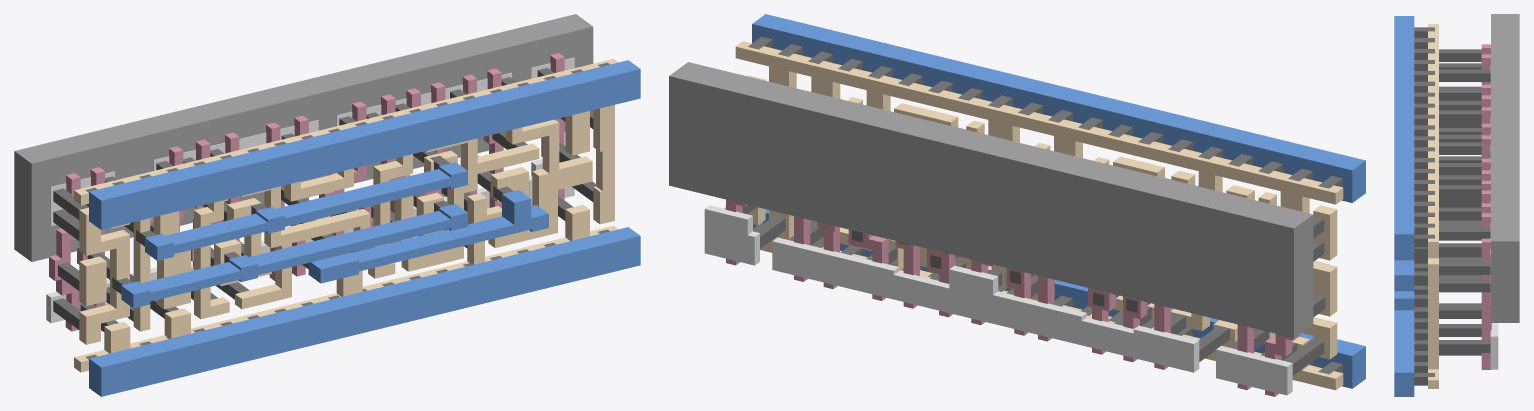
Rendered from sky130_fd_sc_hd__dfrtp_1.gds.gltf.
The picture shows the model from 3 angles, left to right: view 1: azimuth 30°, elevation 25°; view 2: azimuth 150°, elevation 25°; view 3: azimuth 270°, elevation 25°; orthographic projection. The views are drawn at different scales.
Parts seen in each view (by area): view 1: sky130_fd_sc_hd__dfrtp_1_met1, sky130_fd_sc_hd__dfrtp_1_li1, sky130_fd_sc_hd__dfrtp_1_nwell, sky130_fd_sc_hd__dfrtp_1_poly, sky130_fd_sc_hd__dfrtp_1_licon, sky130_fd_sc_hd__dfrtp_1_diff, sky130_fd_sc_hd__dfrtp_1_mcon; view 2: sky130_fd_sc_hd__dfrtp_1_nwell, sky130_fd_sc_hd__dfrtp_1_li1, sky130_fd_sc_hd__dfrtp_1_met1, sky130_fd_sc_hd__dfrtp_1_diff, sky130_fd_sc_hd__dfrtp_1_poly, sky130_fd_sc_hd__dfrtp_1_mcon, sky130_fd_sc_hd__dfrtp_1_licon; view 3: sky130_fd_sc_hd__dfrtp_1_licon, sky130_fd_sc_hd__dfrtp_1_nwell, sky130_fd_sc_hd__dfrtp_1_met1, sky130_fd_sc_hd__dfrtp_1_mcon, sky130_fd_sc_hd__dfrtp_1_li1, sky130_fd_sc_hd__dfrtp_1_poly, sky130_fd_sc_hd__dfrtp_1_diff.
Boxes of the visible parts, left/top/right/bottom form: sky130_fd_sc_hd__dfrtp_1_met1: left=89, top=60, right=640, bottom=396; sky130_fd_sc_hd__dfrtp_1_li1: left=74, top=58, right=618, bottom=372; sky130_fd_sc_hd__dfrtp_1_nwell: left=14, top=14, right=593, bottom=261; sky130_fd_sc_hd__dfrtp_1_poly: left=49, top=53, right=564, bottom=331; sky130_fd_sc_hd__dfrtp_1_licon: left=53, top=68, right=595, bottom=331; sky130_fd_sc_hd__dfrtp_1_diff: left=46, top=57, right=574, bottom=323; sky130_fd_sc_hd__dfrtp_1_mcon: left=85, top=62, right=609, bottom=359; sky130_fd_sc_hd__dfrtp_1_nwell: left=669, top=62, right=1313, bottom=337; sky130_fd_sc_hd__dfrtp_1_li1: left=735, top=41, right=1343, bottom=390; sky130_fd_sc_hd__dfrtp_1_met1: left=752, top=14, right=1365, bottom=388; sky130_fd_sc_hd__dfrtp_1_diff: left=704, top=205, right=1292, bottom=395; sky130_fd_sc_hd__dfrtp_1_poly: left=726, top=199, right=1299, bottom=396; sky130_fd_sc_hd__dfrtp_1_mcon: left=748, top=36, right=1342, bottom=374; sky130_fd_sc_hd__dfrtp_1_licon: left=724, top=82, right=1325, bottom=375; sky130_fd_sc_hd__dfrtp_1_licon: left=1439, top=49, right=1490, bottom=355; sky130_fd_sc_hd__dfrtp_1_nwell: left=1491, top=14, right=1519, bottom=322; sky130_fd_sc_hd__dfrtp_1_met1: left=1394, top=16, right=1414, bottom=396; sky130_fd_sc_hd__dfrtp_1_mcon: left=1414, top=27, right=1434, bottom=385; sky130_fd_sc_hd__dfrtp_1_li1: left=1428, top=24, right=1438, bottom=388; sky130_fd_sc_hd__dfrtp_1_poly: left=1481, top=44, right=1491, bottom=369; sky130_fd_sc_hd__dfrtp_1_diff: left=1490, top=65, right=1498, bottom=369.
Bounding box in the file's own units: 9.58 × 3.2 × 2.24.
